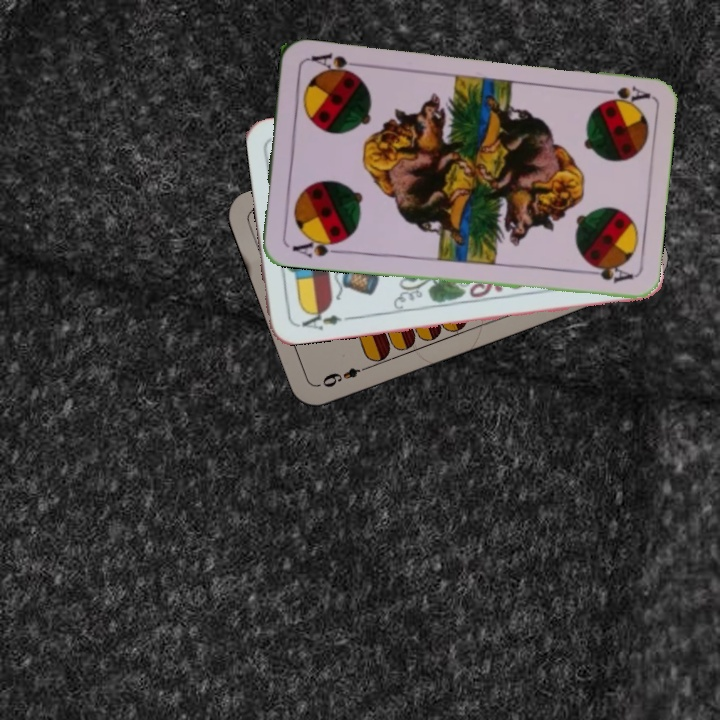E9: (318, 361, 373, 391)
EA: (292, 305, 351, 333)
SA: (288, 233, 346, 261), (593, 82, 652, 106)
